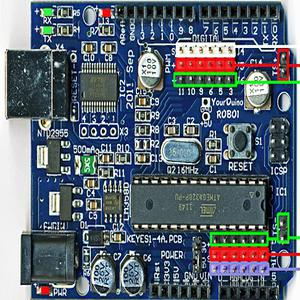duino: (20, 0, 300, 300)
